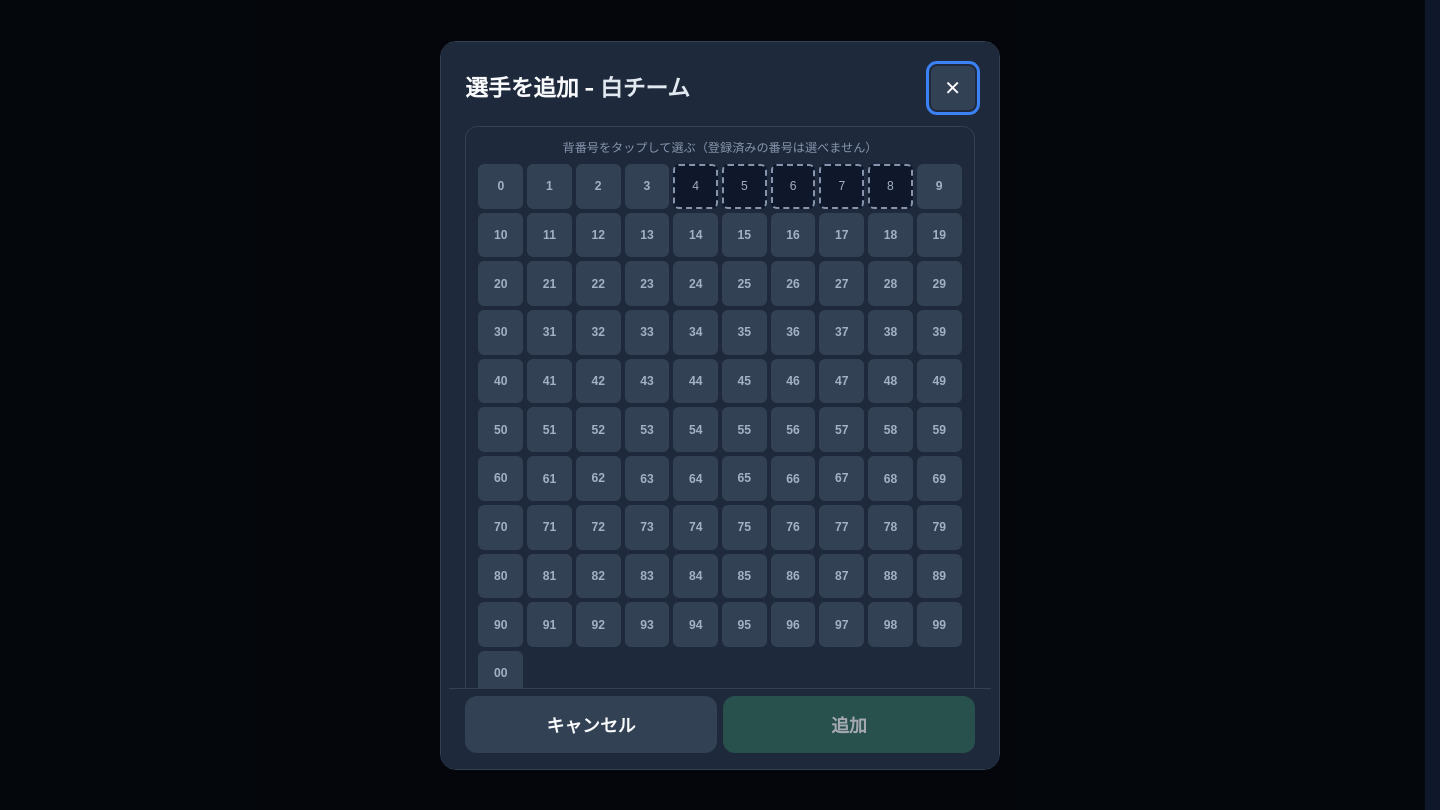
Scenario: AddPlayersPanel: 番号グリッド › タップすると確定リストに並び、もう一度タップで外れる
What coordinates should you click on to do the following:
click the button named "背番号9"
I would click on:
 (939, 186)
Its box is [917, 164, 962, 208].
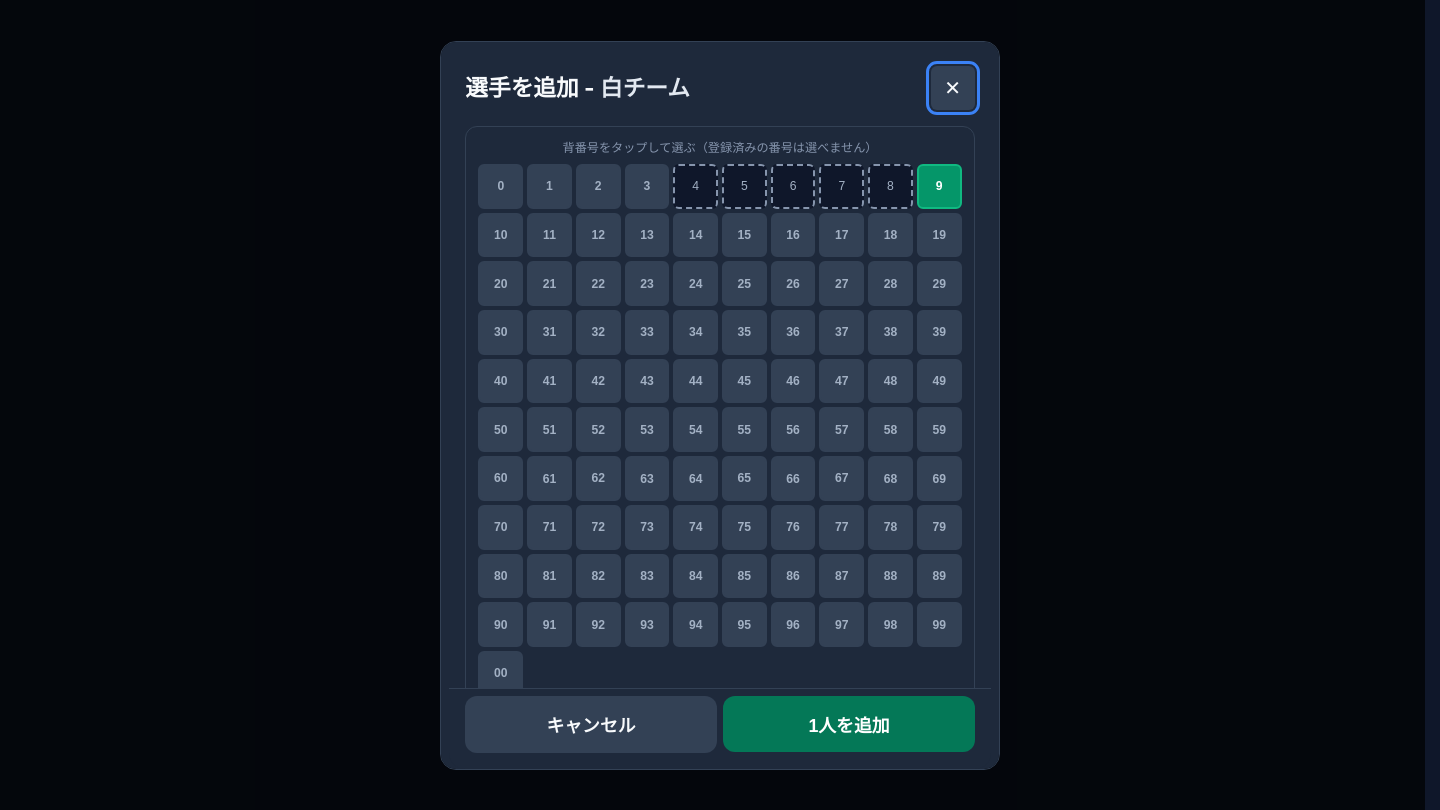
Now the field named "背番号9の氏名" is shown, box [528, 721, 924, 765]
What coordinates should you click on to do the following:
click the button named "背番号9"
I would click on:
 (939, 186)
Its box is [917, 164, 962, 208].
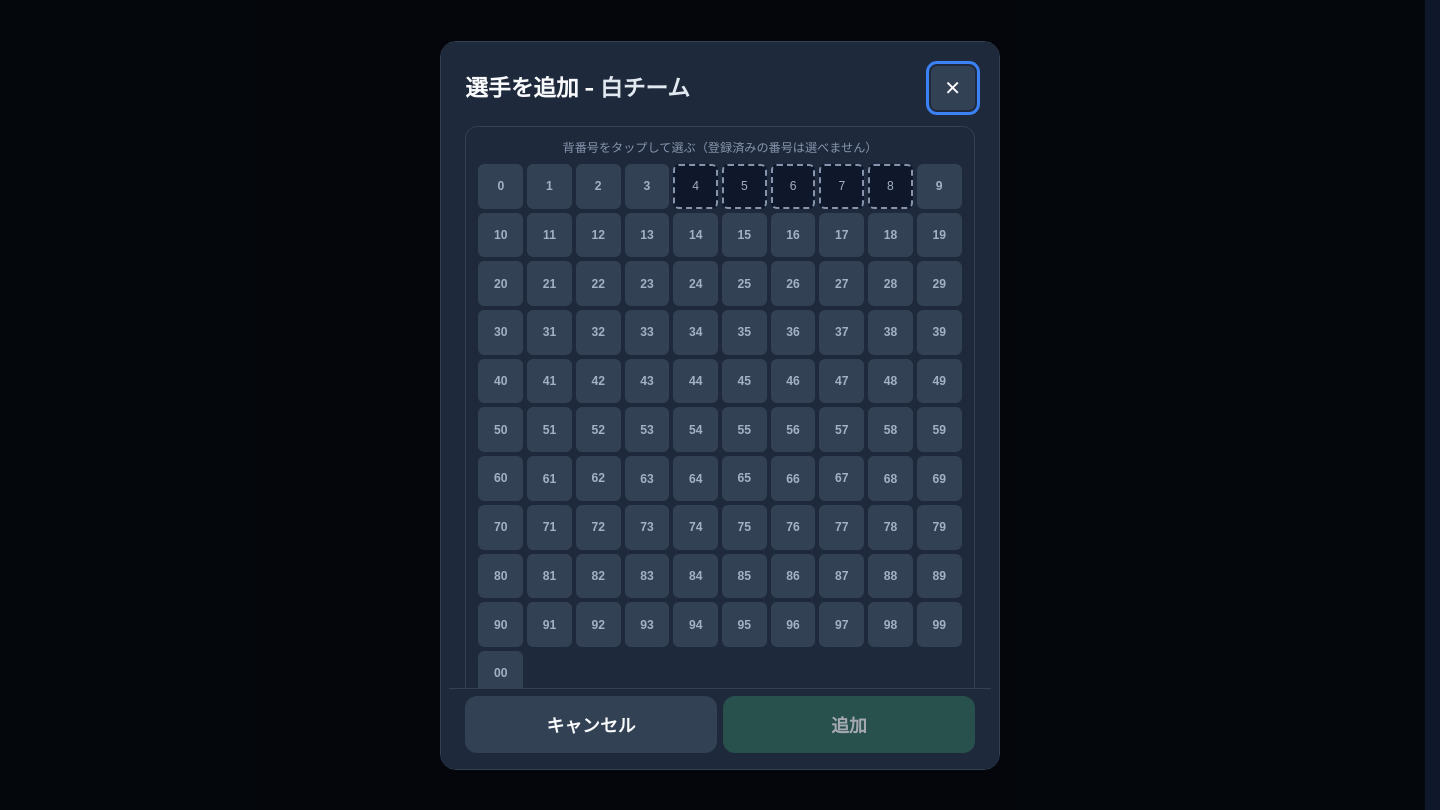
Now the field labelled "背番号9の氏名" is gone
